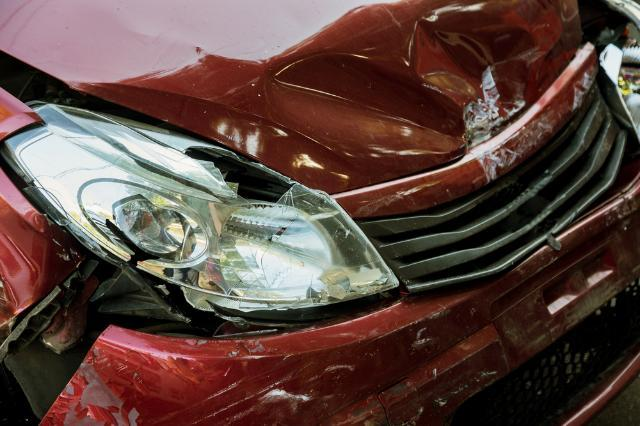dent: (261, 9, 534, 159)
dislocated part: (0, 166, 640, 426)
lamp broken: (5, 102, 396, 319)
scratch: (36, 336, 367, 426), (468, 75, 591, 183)
